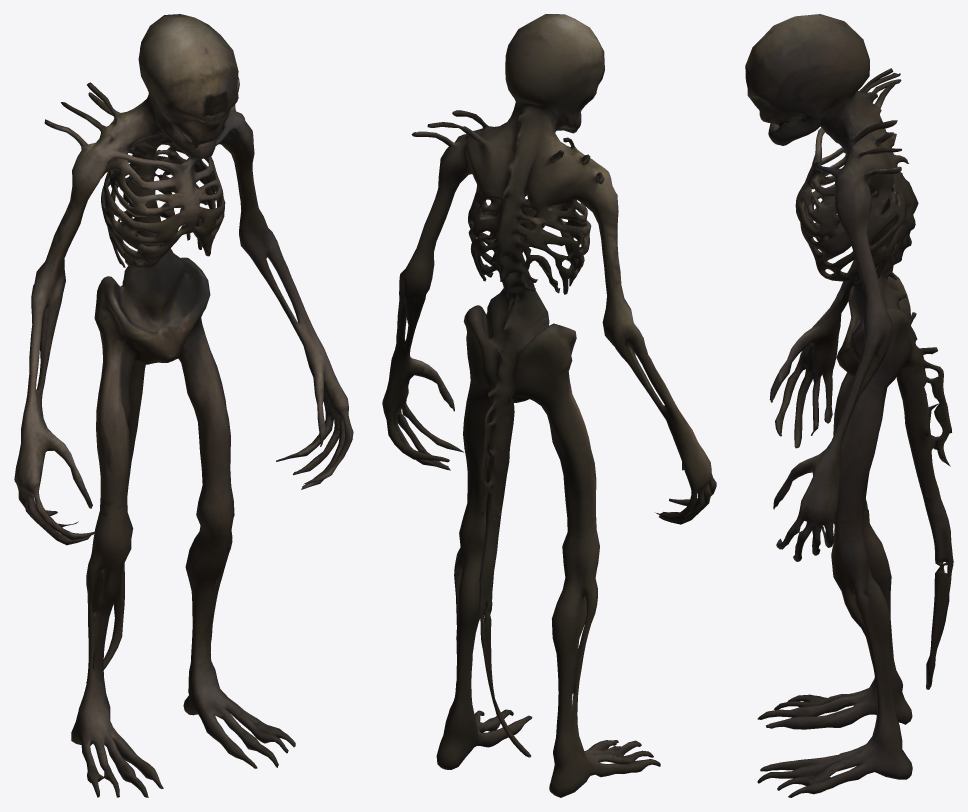
Rendered from I_m_working_on_a_3D_V_0115101425_texture.fbx.
3 views of the same model, side by side, from view 1: azimuth 30°, elevation 25°; view 2: azimuth 150°, elevation 25°; view 3: azimuth 270°, elevation 25° (orthographic).
Visible parts, largest first — view 1: Mesh1_Mesh1.031; view 2: Mesh1_Mesh1.031; view 3: Mesh1_Mesh1.031.
Boxes of the visible parts, x1,y1,x2,y2 form: Mesh1_Mesh1.031: [14, 14, 353, 797]; Mesh1_Mesh1.031: [382, 14, 716, 797]; Mesh1_Mesh1.031: [745, 14, 953, 797].
Bounding box in the file's own units: 91.81 × 200 × 51.39.
1 material, 1 textured.
